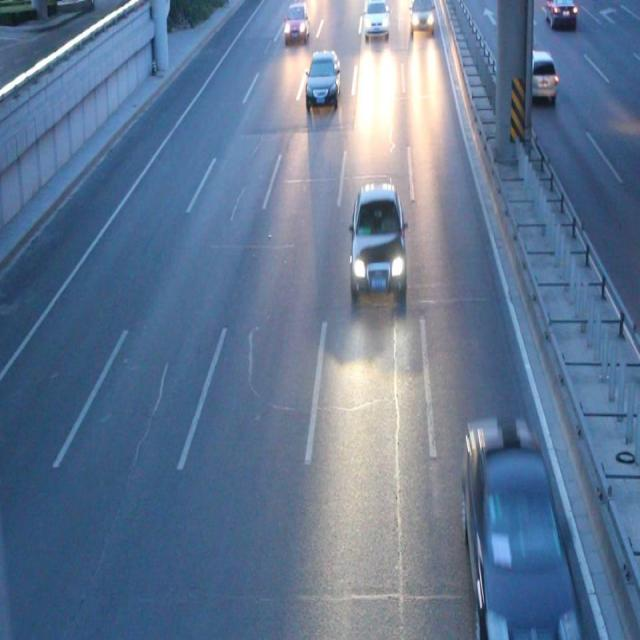car: (463, 416, 578, 617), (350, 184, 404, 290), (304, 52, 338, 102), (520, 48, 554, 95), (284, 1, 309, 40), (364, 2, 388, 34), (545, 1, 575, 26), (410, 1, 433, 29)
